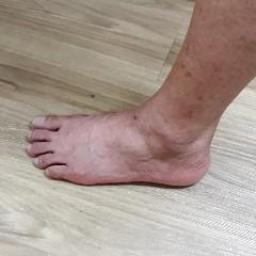Lateral View -Left Foot-: (14, 72, 249, 207)
